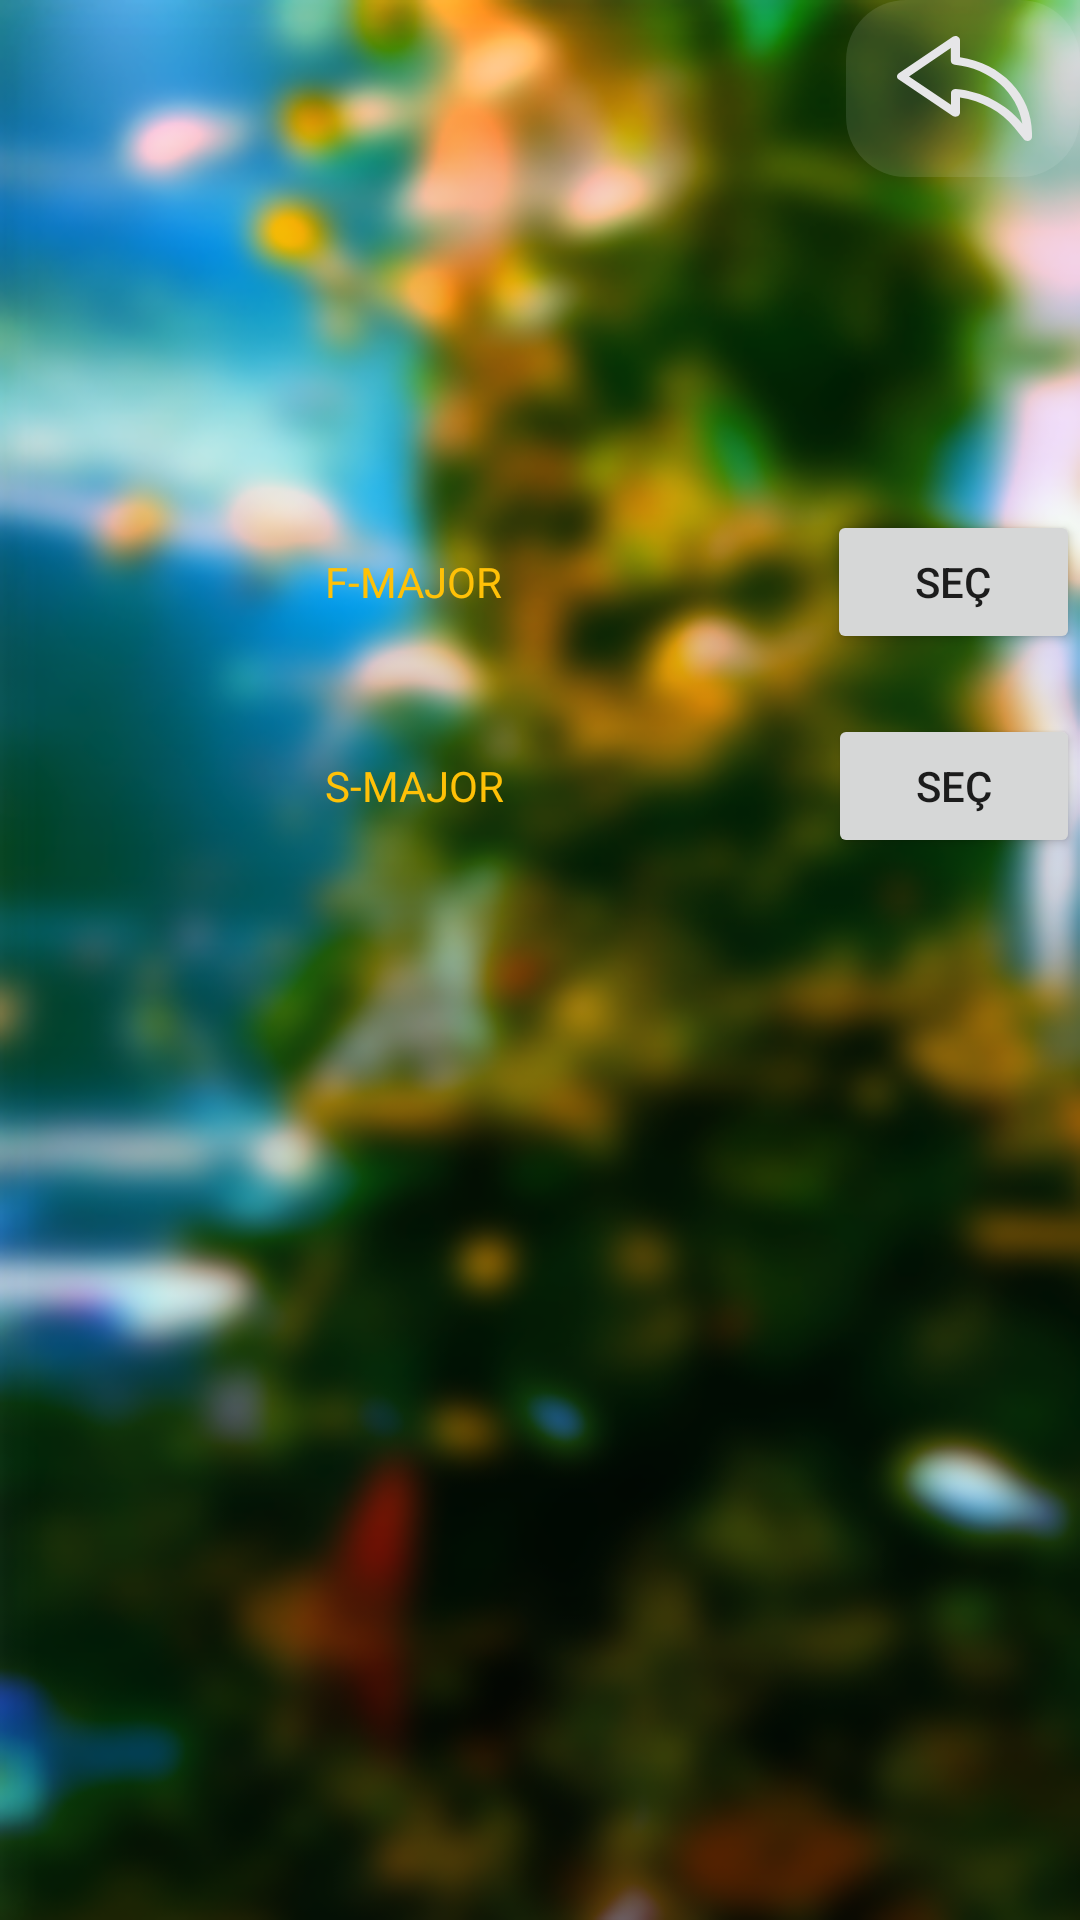

Point at icon controls on the screen. Image size 1080×1920, points as (x,y).
back: (963,88)
